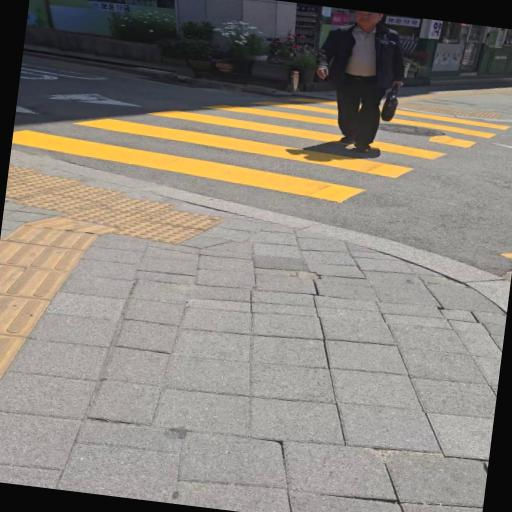yellow-crosswalk: (9, 54, 512, 230)
